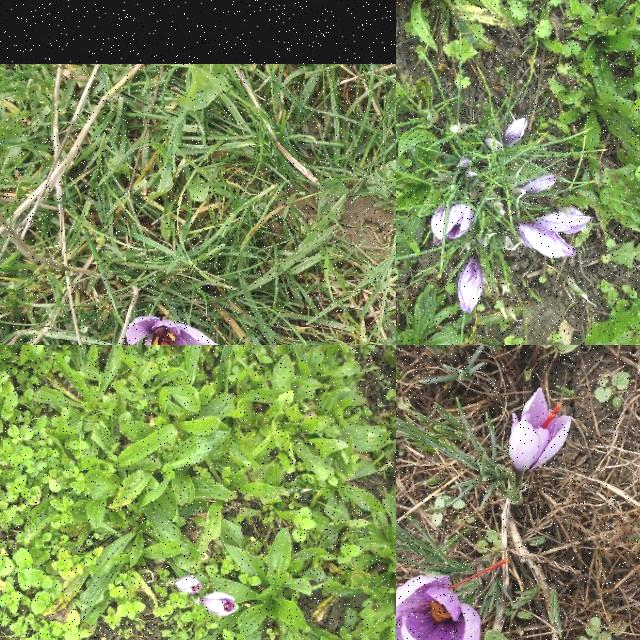flower: (396, 560, 506, 640), (510, 386, 572, 474), (126, 315, 222, 345), (430, 204, 476, 242), (457, 256, 483, 312), (202, 592, 240, 616), (504, 118, 530, 148), (521, 176, 555, 194), (175, 576, 203, 594)
overlap: (516, 208, 592, 258)
